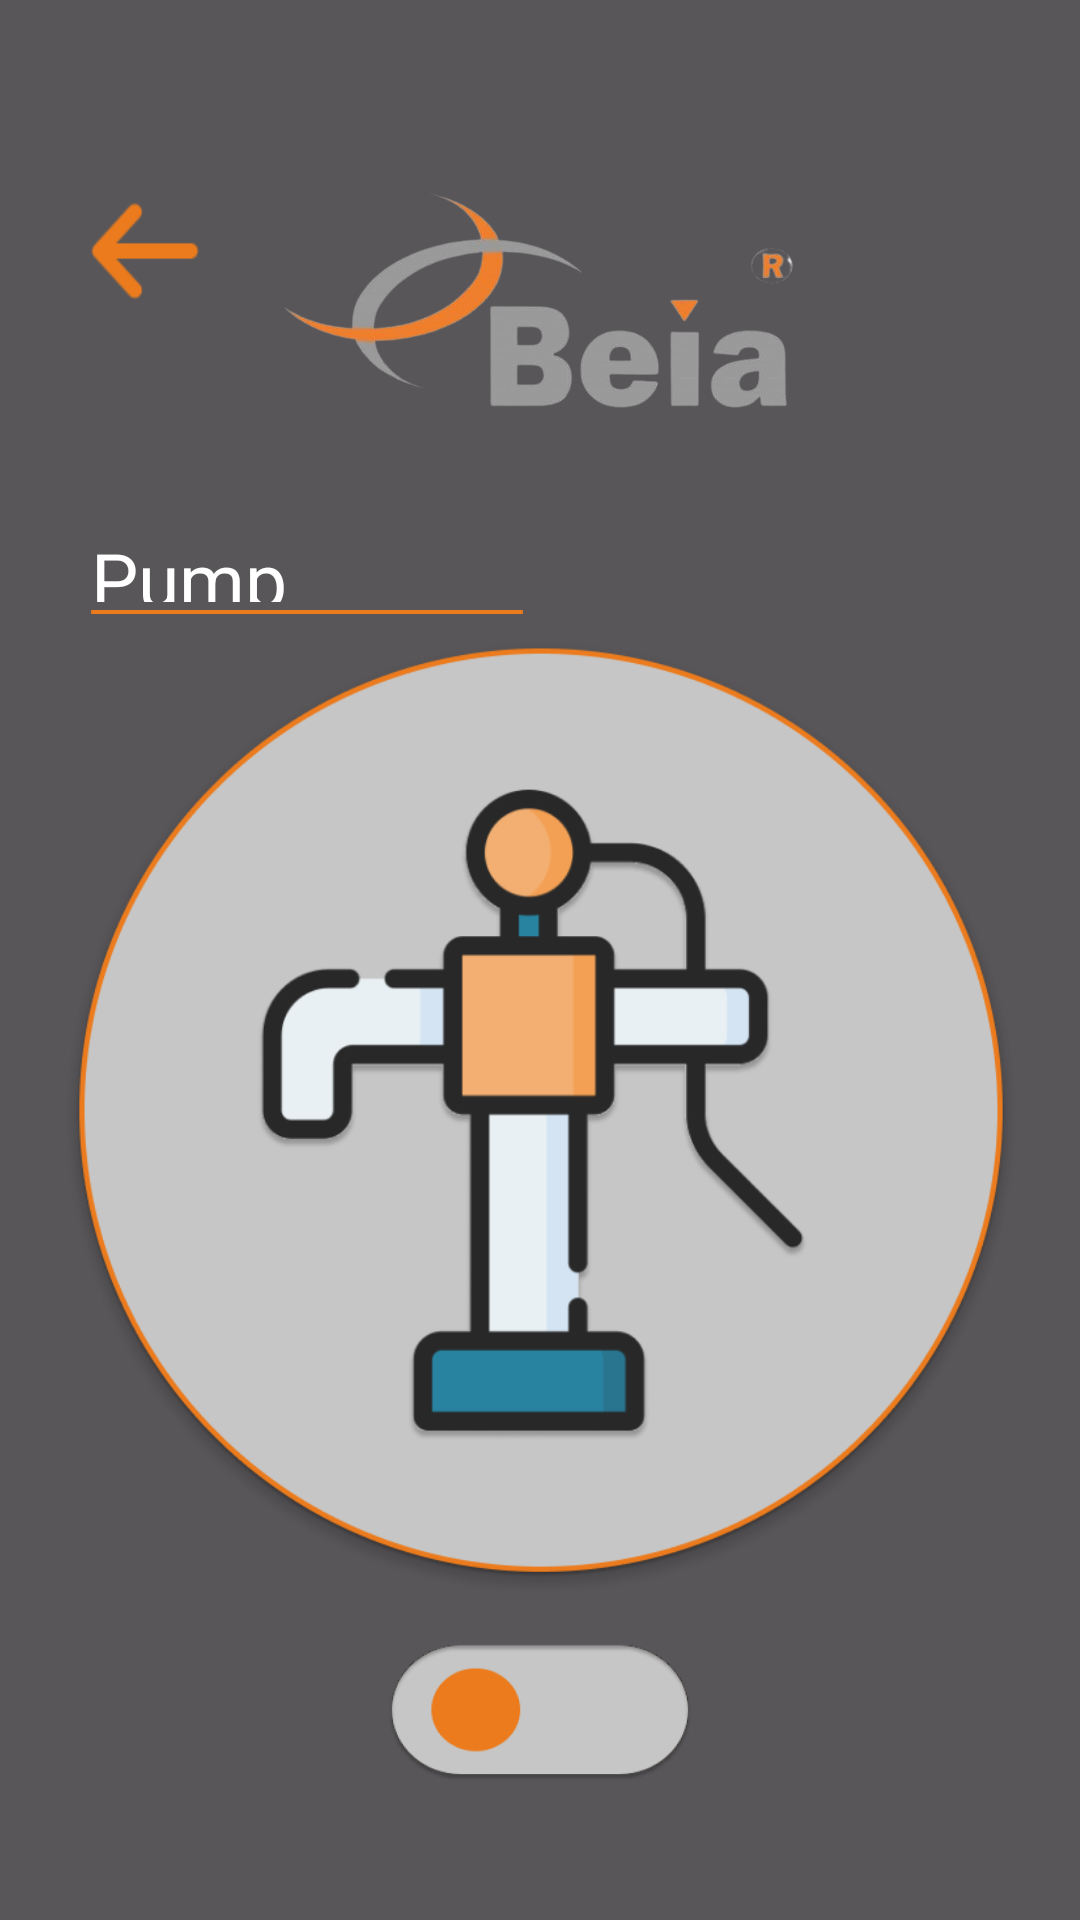

Icon click points for this 1080w x 1920h phone screenshot, format (x=x, y=y):
toggle on: (x=540, y=1709)
